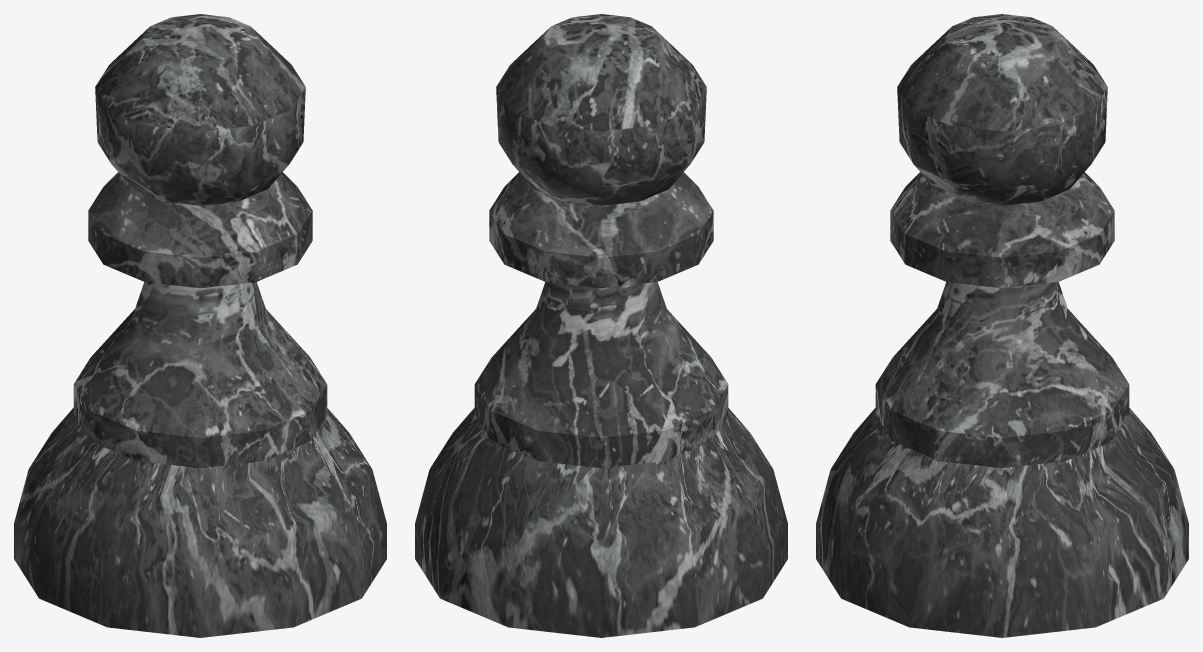
The model's file is b_pawn.glb.
3 renders of one model, left to right at view 1: azimuth 30°, elevation 25°; view 2: azimuth 150°, elevation 25°; view 3: azimuth 270°, elevation 25°, orthographic.
Visible parts, largest first — view 1: Pawn; view 2: Pawn; view 3: Pawn.
Part boxes in pixels (left/top/right/bottom): Pawn: left=14, top=14, right=386, bottom=637; Pawn: left=415, top=14, right=787, bottom=637; Pawn: left=816, top=14, right=1188, bottom=637.
Size of the model in its own units: 1.1 by 1.74 by 1.1.
Materials: 1 (1 with a texture image).
